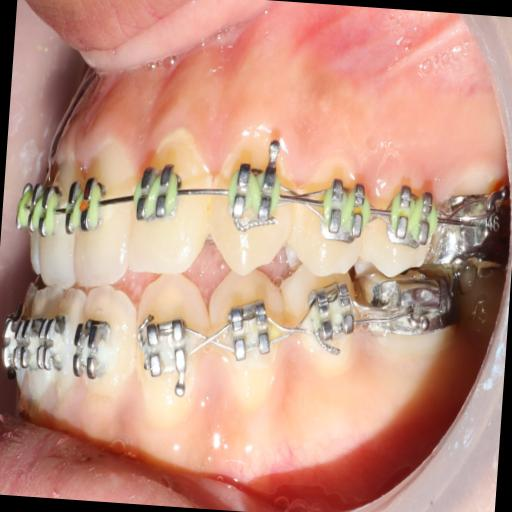correct_brace: (294, 166, 370, 276), (226, 152, 284, 228), (133, 162, 188, 228), (64, 173, 106, 239)
incorrect_brace: (130, 130, 214, 273), (313, 168, 373, 240)
